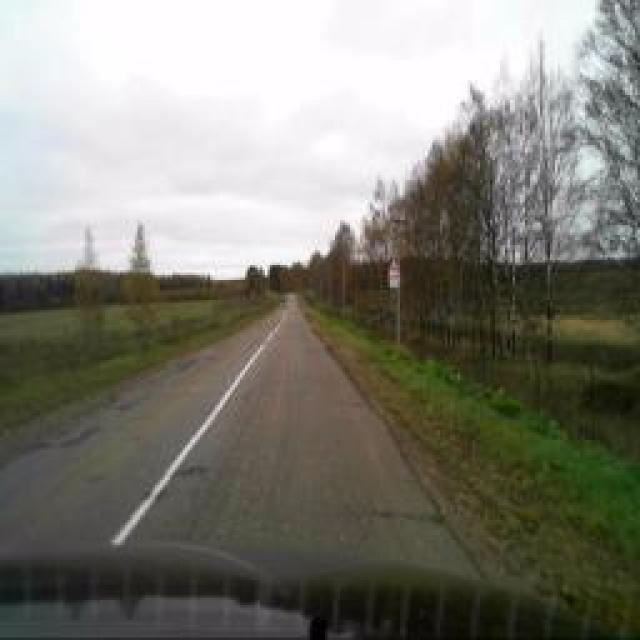sign: (388, 259, 400, 276)
